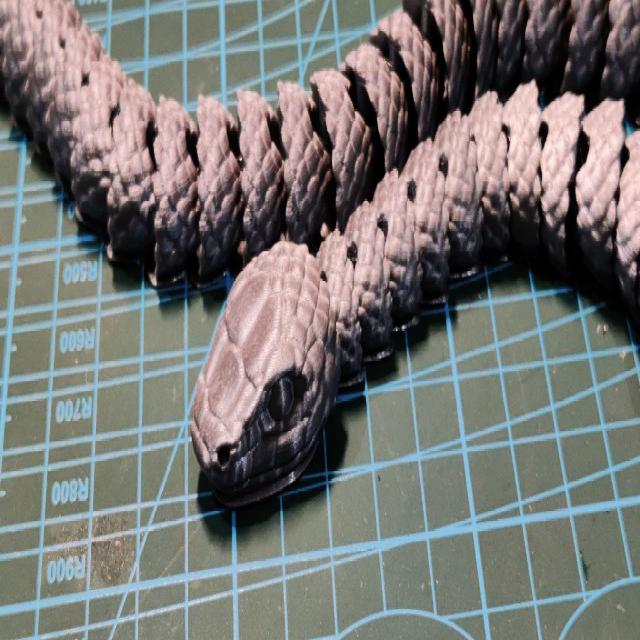Without deffect: (4, 0, 640, 523)
